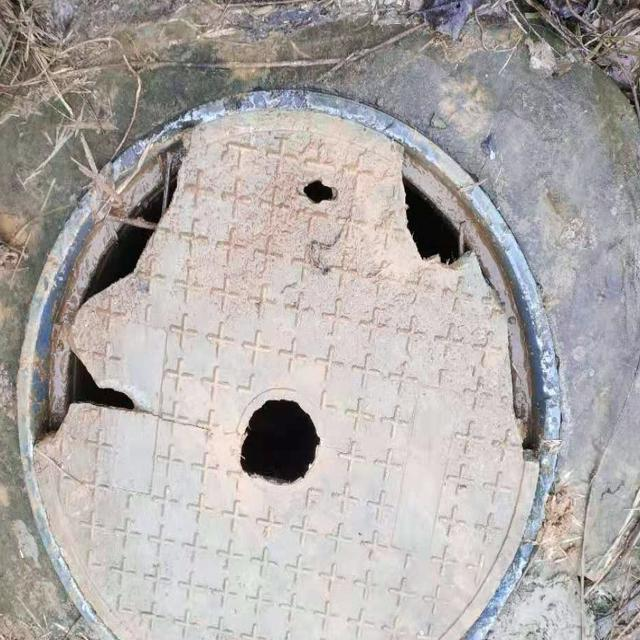broke: (8, 87, 561, 640)
